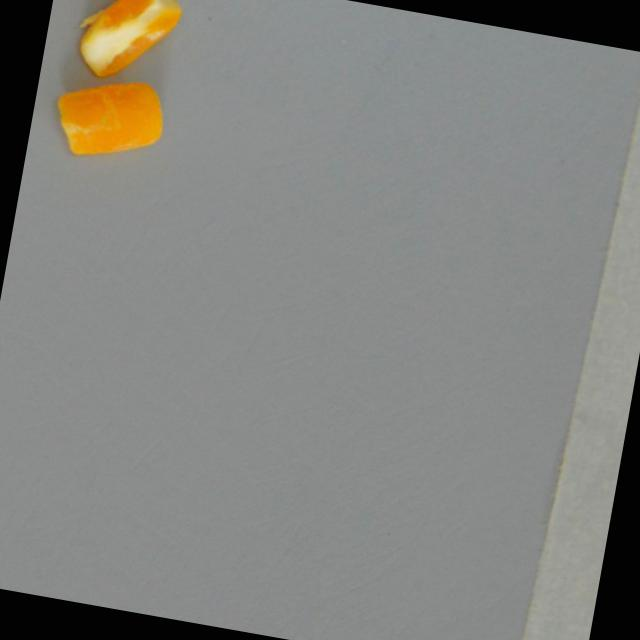pelicula: (45, 60, 172, 175), (71, 0, 191, 94)
